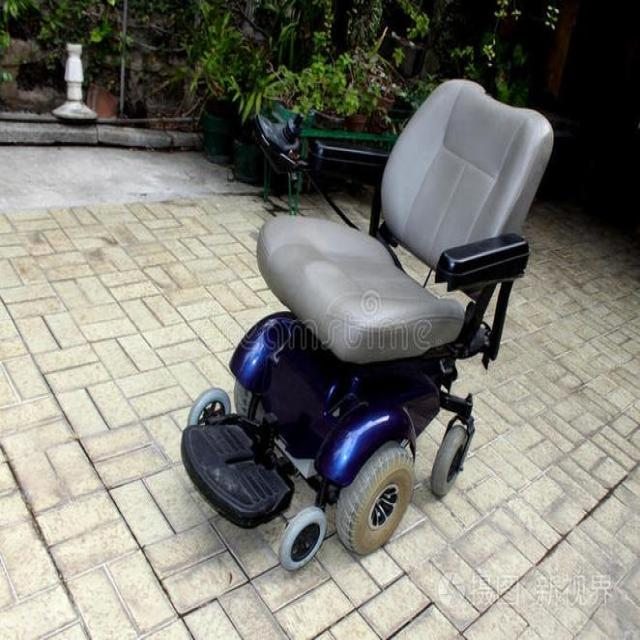wheelchairs: (170, 75, 560, 581)
